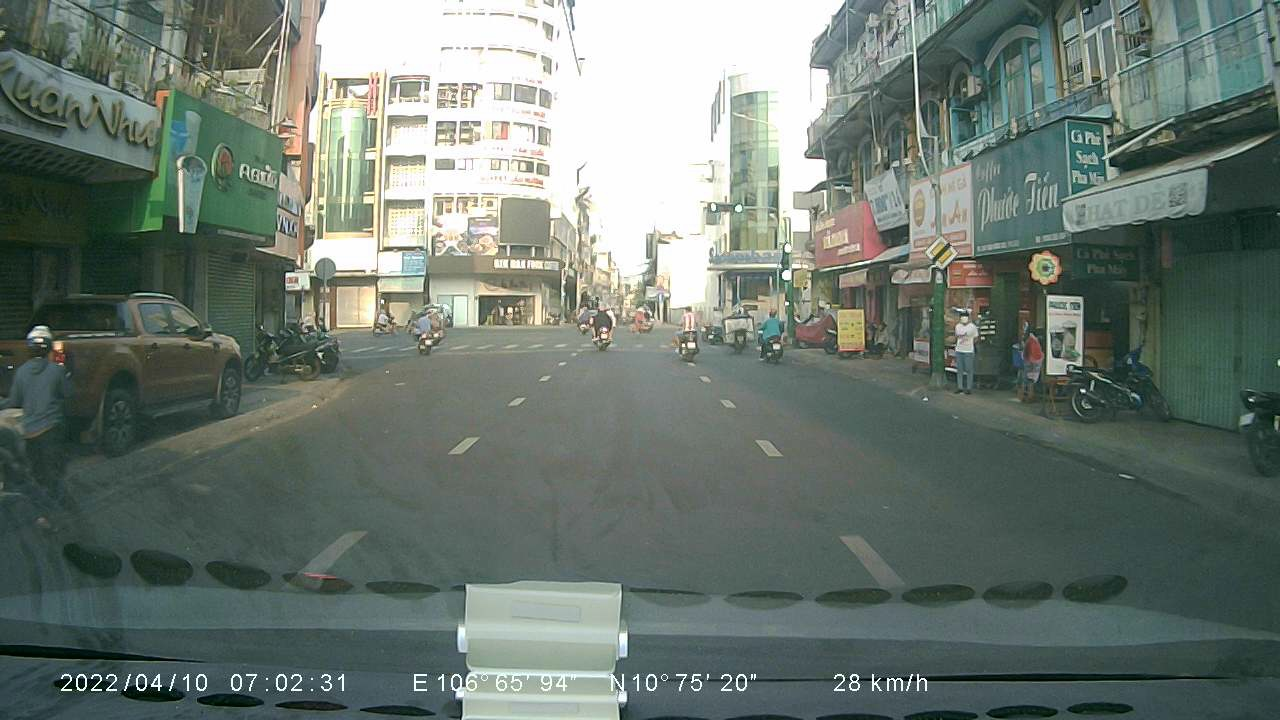Bien khac: (922, 232, 959, 271)
